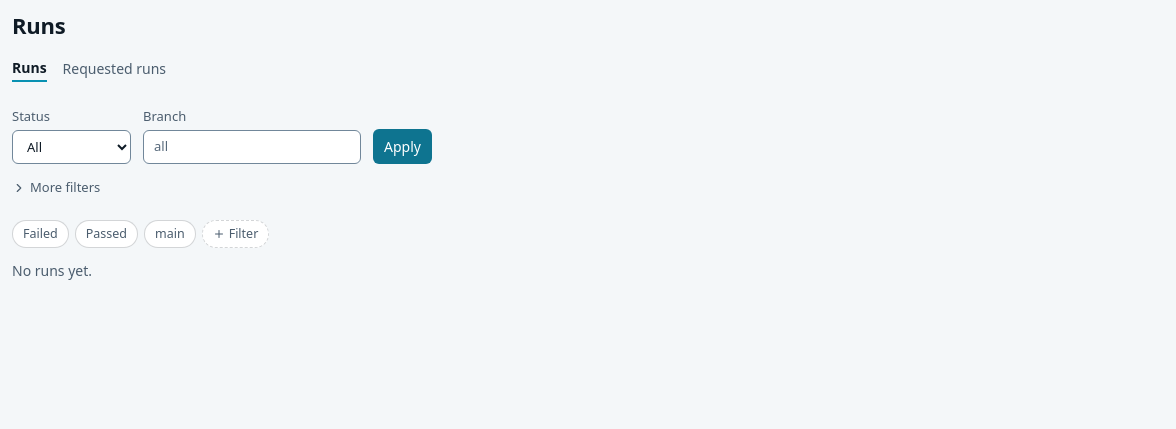
Test: more filters send commit, PR, CI and a local date range
The image size is (1176, 429).
Expected: the text "No runs yet." is shown, [12,261,92,280]
Click the heading "More filters" at (56, 187), box [12,178,100,196]
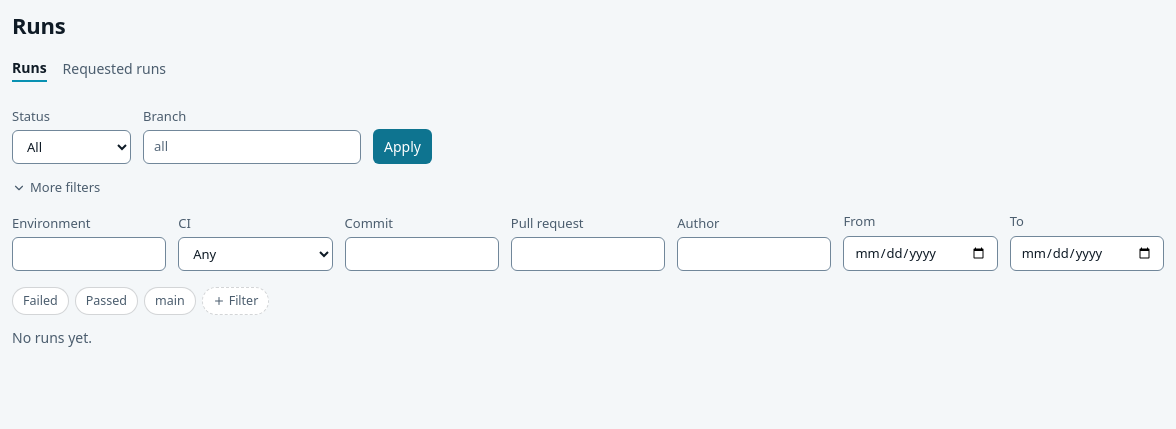
Type "abc12" into the field labelled "Commit" at (422, 254), box [345,237,499,271]
Type "42" into the number field labelled "Pull request" at (588, 254), box [511,237,665,271]
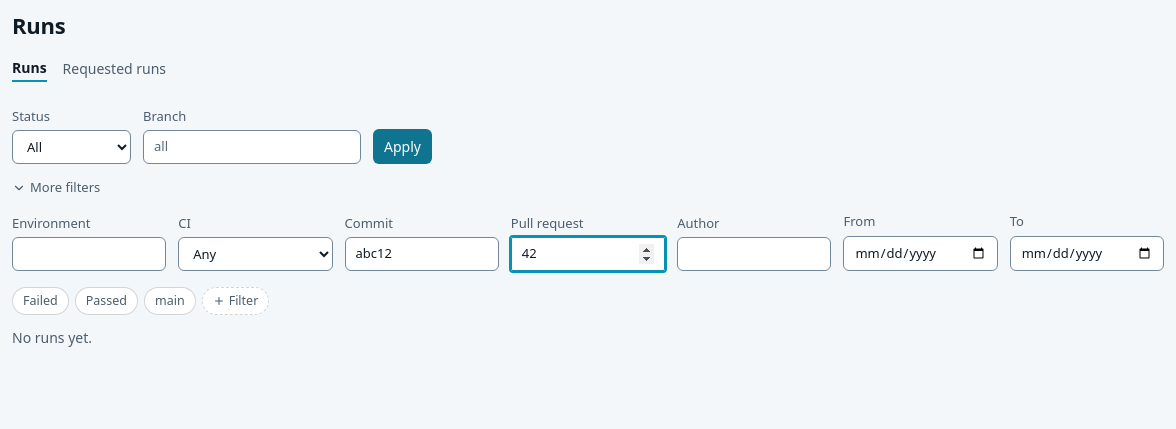
Select "Azure Pipelines" in the dropdown labelled "CI" at (255, 254), box [178,237,333,271]
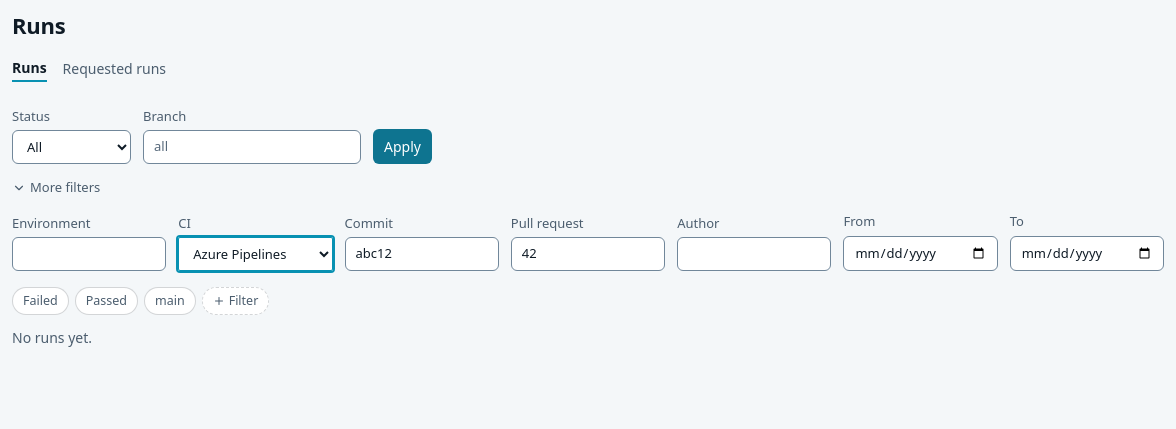
Type "2026-10-01" into the date field labelled "From" at (921, 253), box [843,236,998,271]
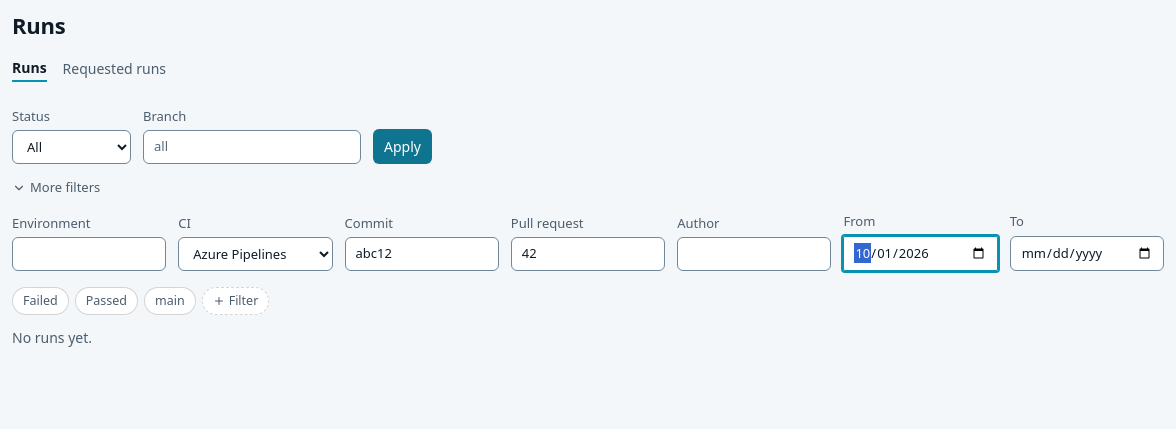
Type "2026-10-03" into the date field labelled "To" at (1087, 253), box [1010,236,1164,271]
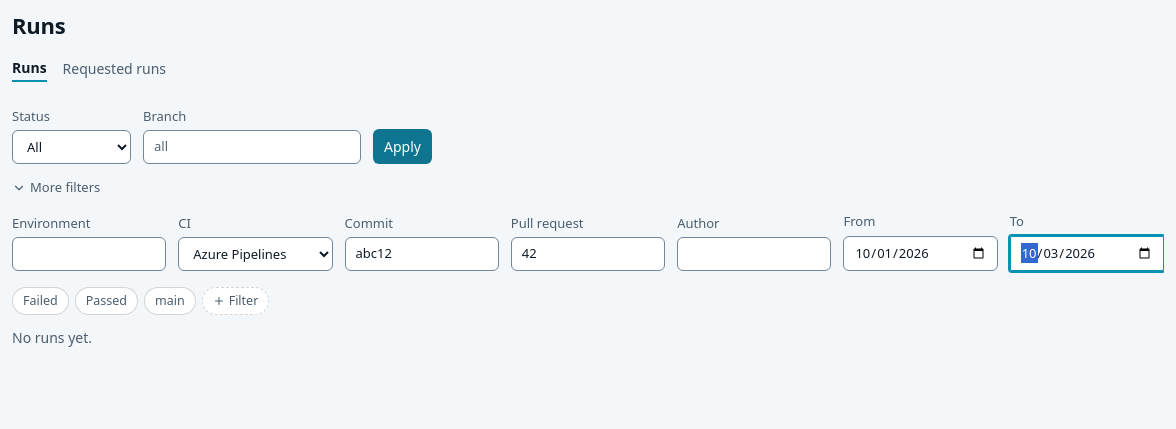
Click the button "Apply" at (402, 146), box [373,129,432,164]
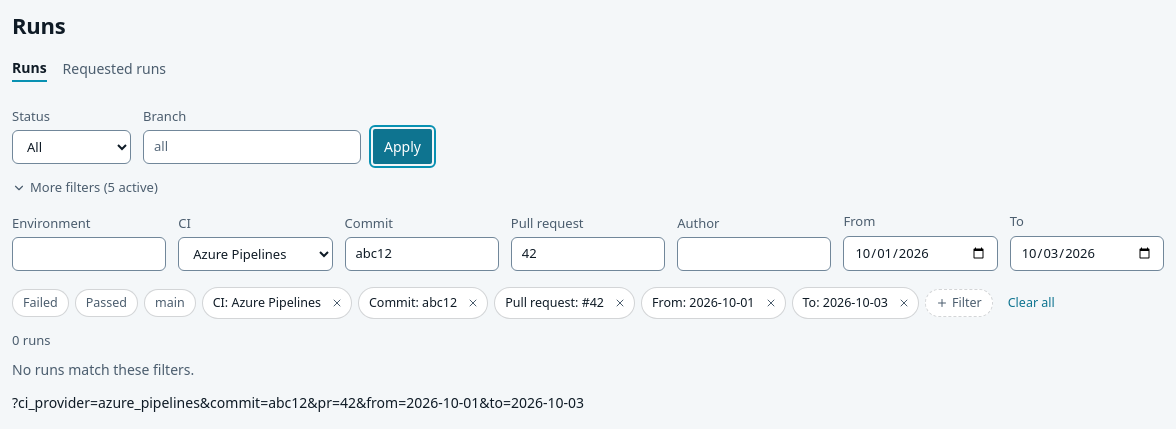
Expected: the text "No runs match these filters." is shown, [12,360,194,378]
Expected: the text with test id "location" shows "from=2026-10-01", [12,392,584,412]
